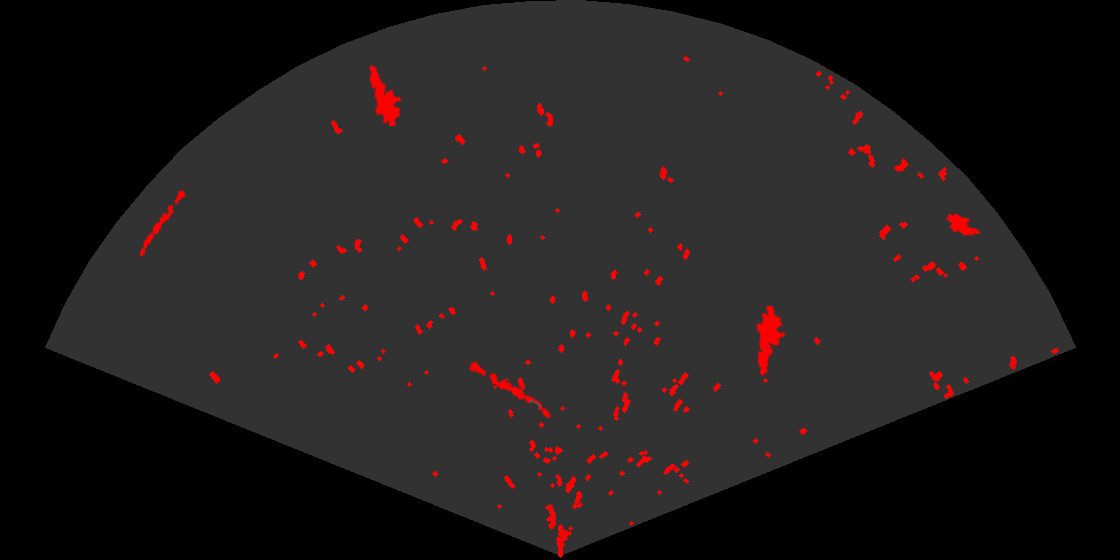AUV: (945, 212, 982, 238)
chain: (463, 358, 553, 420), (138, 180, 191, 258)
frogman: (755, 306, 787, 378), (368, 64, 403, 126)
